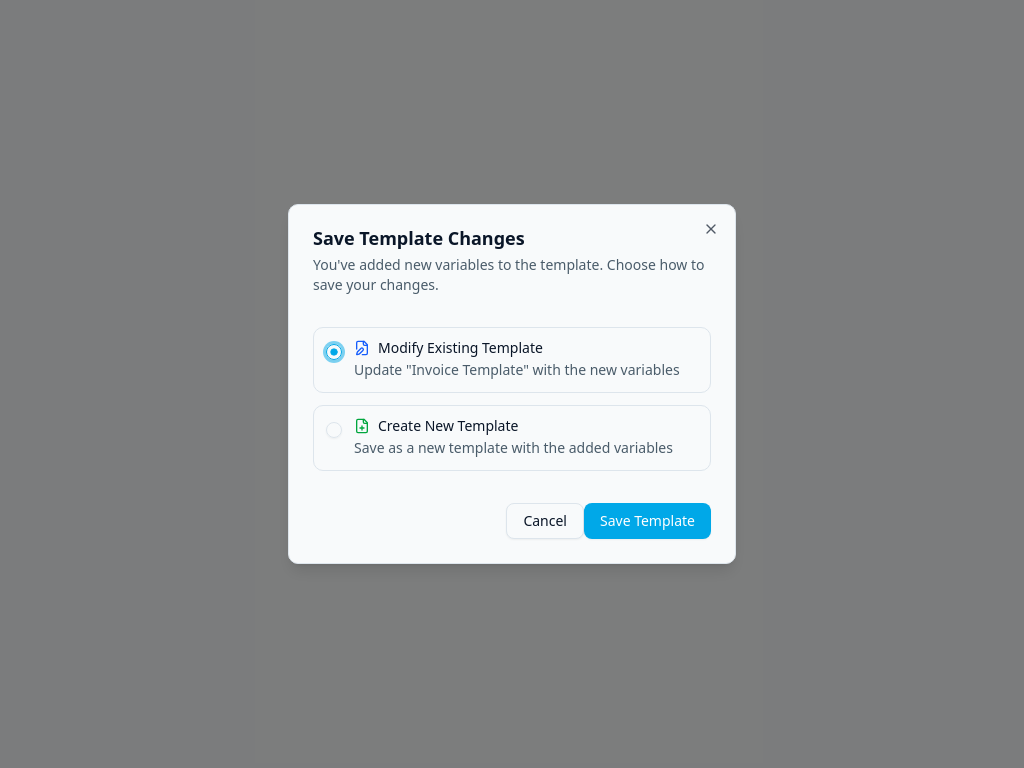
Test: SaveTemplateDialog › hides name input when modify option is selected
The width and height of the screenshot is (1024, 768).
First select create to show the input
What coordinates should you click on to do the following:
click the radio button named "create new template" next to "Create New Template"
I would click on:
 (334, 430)
Its box is [326, 422, 342, 438].
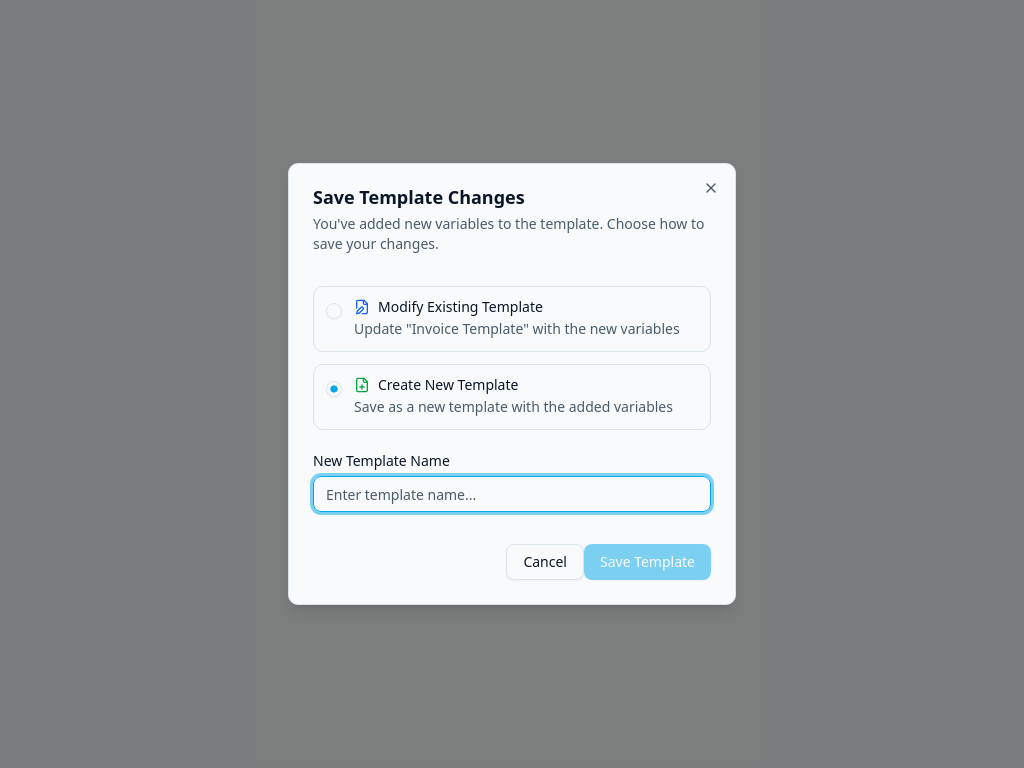
Expected: the field labelled "New Template Name" is shown, [313, 476, 711, 512]
Then select modify to hide it
What coordinates should you click on to do the following:
click the radio button named "modify existing template" next to "Modify Existing Template"
I would click on:
 (334, 311)
Its box is [326, 303, 342, 319].
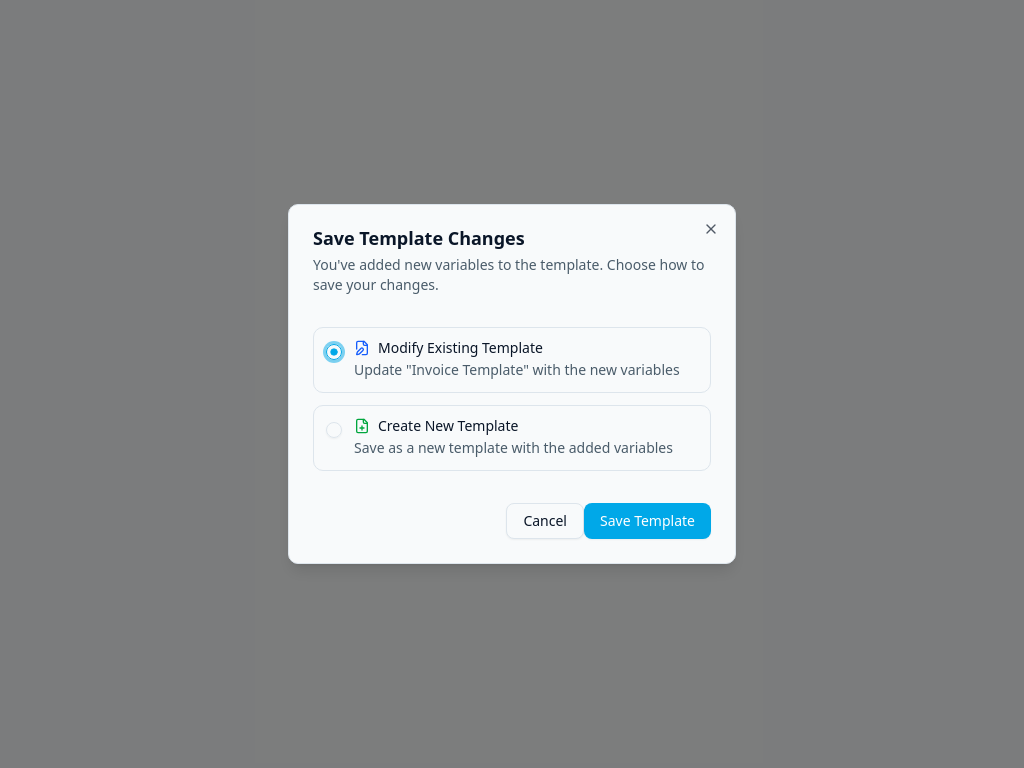
Expected: the label labelled "New Template Name" is gone
